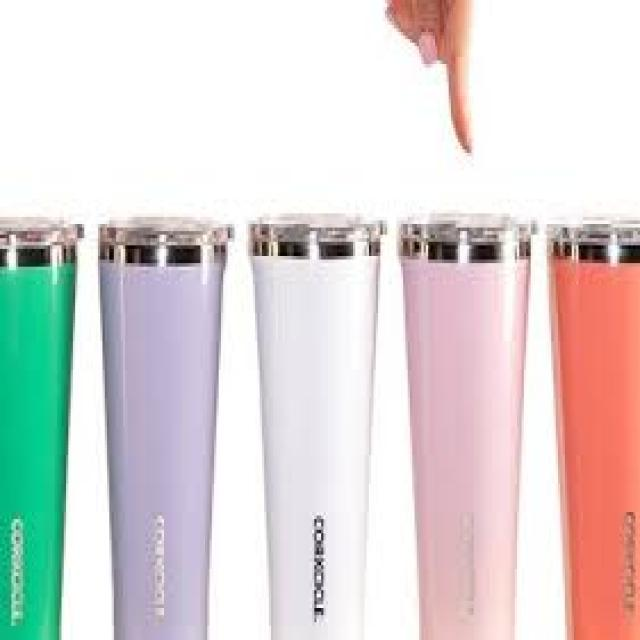bottle: (96, 215, 234, 640), (400, 213, 537, 640), (248, 217, 385, 640), (545, 219, 640, 640), (0, 219, 85, 640)
